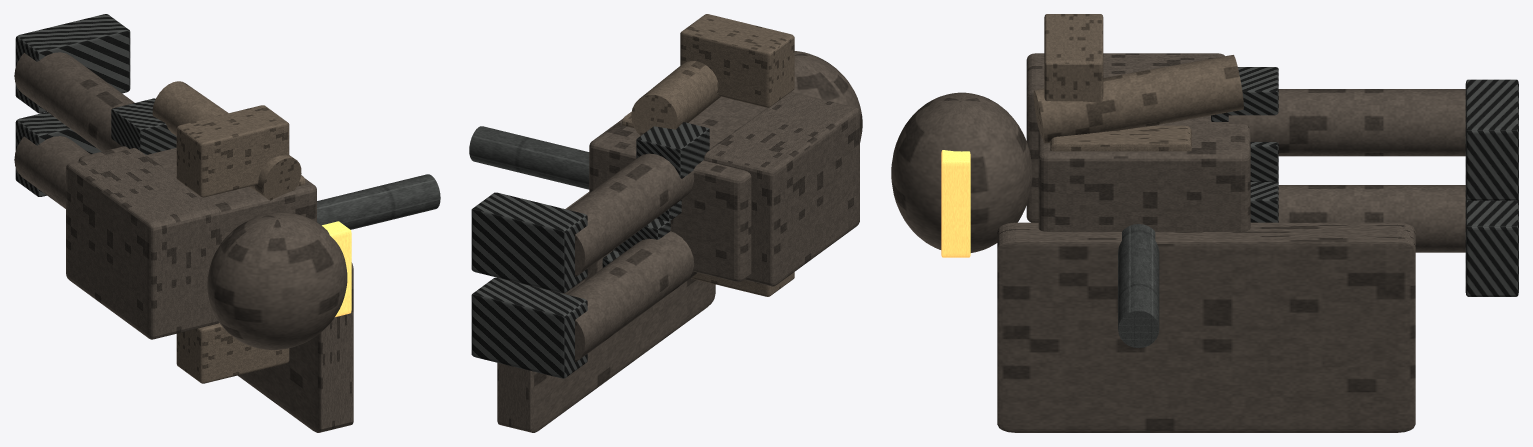
Rendered from d-u10-dominion-operator-lod0.glb.
3 renders of one model, left to right at view 1: azimuth 30°, elevation 25°; view 2: azimuth 150°, elevation 25°; view 3: azimuth 270°, elevation 25°, orthographic. The views are drawn at different scales.
Parts seen in each view (by area): view 1: soldier_0_backpack, soldier_0_helmet, ballistic_shield, soldier_0_shoulder_1, soldier_0_leg_1, soldier_0_boot_1, soldier_0_rifle, soldier_0_shoulder_-1, soldier_0_torso, soldier_0_arm_1, soldier_0_leg_-1, soldier_0_pouch_3 (+2 smaller); view 2: soldier_0_backpack, soldier_0_torso, ballistic_shield, soldier_0_boot_1, soldier_0_boot_-1, soldier_0_leg_-1, soldier_0_shoulder_1, soldier_0_leg_1, soldier_0_rifle, soldier_0_arm_1, soldier_0_pouch_3, soldier_0_helmet (+2 smaller); view 3: ballistic_shield, soldier_0_torso, soldier_0_helmet, soldier_0_leg_1, soldier_0_arm_1, soldier_0_leg_-1, soldier_0_boot_1, soldier_0_shoulder_1, soldier_0_boot_-1, soldier_0_rifle, soldier_0_backpack, soldier_0_visor (+4 smaller).
Part boxes in pixels (x1=…): soldier_0_backpack: x1=66, y1=148, x2=220, y2=339; soldier_0_helmet: x1=207, y1=212, x2=347, y2=349; ballistic_shield: x1=238, y1=262, x2=353, y2=432; soldier_0_shoulder_1: x1=176, y1=105, x2=289, y2=197; soldier_0_leg_1: x1=14, y1=52, x2=134, y2=151; soldier_0_boot_1: x1=15, y1=14, x2=130, y2=113; soldier_0_rifle: x1=317, y1=174, x2=440, y2=229; soldier_0_shoulder_-1: x1=176, y1=323, x2=289, y2=383; soldier_0_torso: x1=78, y1=146, x2=316, y2=244; soldier_0_arm_1: x1=152, y1=81, x2=301, y2=200; soldier_0_leg_-1: x1=14, y1=136, x2=90, y2=208; soldier_0_pouch_3: x1=111, y1=98, x2=176, y2=154; soldier_0_backpack: x1=703, y1=92, x2=859, y2=286; soldier_0_torso: x1=589, y1=96, x2=766, y2=281; ballistic_shield: x1=497, y1=192, x2=715, y2=432; soldier_0_boot_1: x1=471, y1=192, x2=587, y2=293; soldier_0_boot_-1: x1=471, y1=277, x2=587, y2=378; soldier_0_leg_-1: x1=567, y1=231, x2=697, y2=362; soldier_0_shoulder_1: x1=680, y1=14, x2=794, y2=107; soldier_0_leg_1: x1=567, y1=153, x2=694, y2=276; soldier_0_rifle: x1=469, y1=126, x2=589, y2=189; soldier_0_arm_1: x1=631, y1=61, x2=720, y2=135; soldier_0_pouch_3: x1=636, y1=122, x2=709, y2=178; soldier_0_helmet: x1=791, y1=51, x2=862, y2=142; ballistic_shield: x1=997, y1=222, x2=1415, y2=432; soldier_0_torso: x1=1038, y1=115, x2=1250, y2=231; soldier_0_helmet: x1=891, y1=92, x2=1032, y2=252; soldier_0_leg_1: x1=1228, y1=89, x2=1465, y2=156; soldier_0_arm_1: x1=1033, y1=55, x2=1243, y2=143; soldier_0_leg_-1: x1=1278, y1=185, x2=1465, y2=252; soldier_0_boot_1: x1=1465, y1=79, x2=1518, y2=200; soldier_0_shoulder_1: x1=1044, y1=14, x2=1103, y2=102; soldier_0_boot_-1: x1=1465, y1=197, x2=1518, y2=296; soldier_0_rifle: x1=1118, y1=224, x2=1159, y2=348; soldier_0_backpack: x1=1026, y1=53, x2=1224, y2=222; soldier_0_visor: x1=941, y1=150, x2=970, y2=257.
Size of what is drawn, in the model's own units: 1.48 by 1.3 by 2.13.
Materials: 5 (5 with a texture image).
